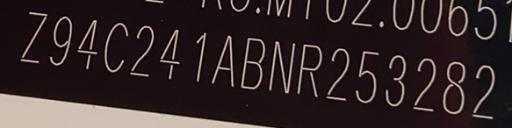letter: (264, 37, 302, 95), (237, 32, 271, 96), (293, 40, 329, 99), (350, 47, 386, 106), (206, 30, 240, 91), (408, 55, 442, 115), (14, 9, 50, 65), (438, 57, 472, 116), (468, 61, 502, 120), (98, 20, 132, 75), (128, 21, 160, 79), (381, 51, 413, 108), (46, 13, 78, 69), (323, 45, 355, 100), (72, 17, 102, 74), (156, 25, 186, 81), (185, 28, 211, 84)
